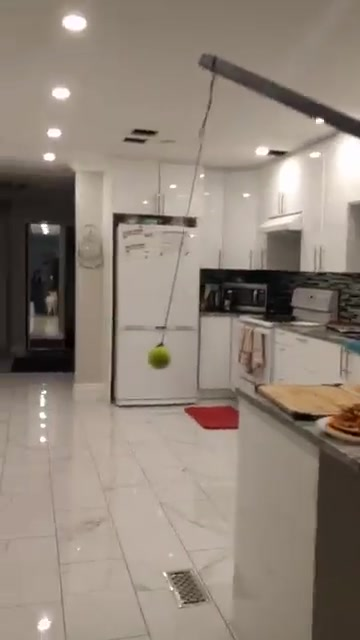tennis_ball: (146, 343, 172, 370)
